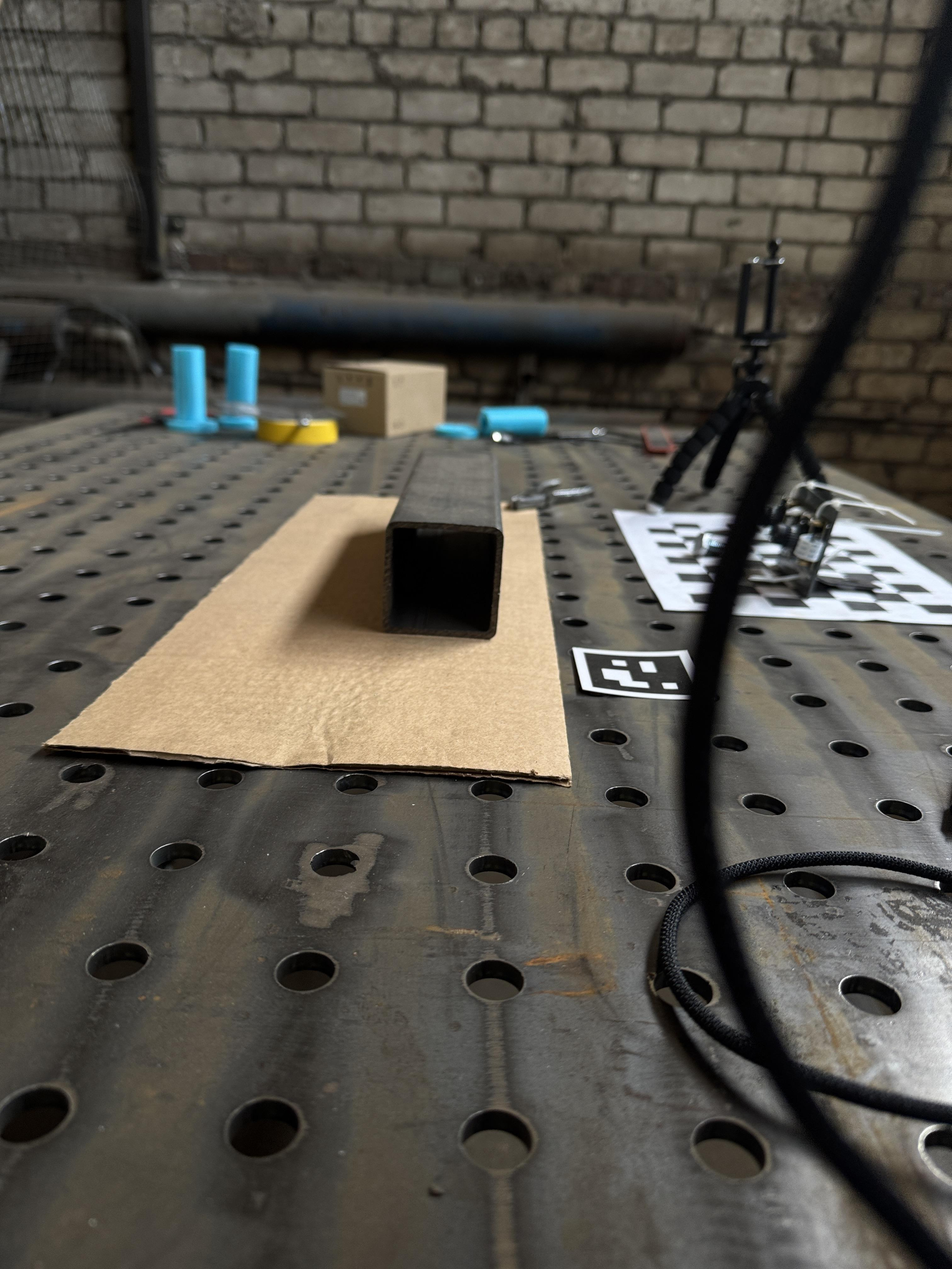detail: (382, 448, 505, 640)
